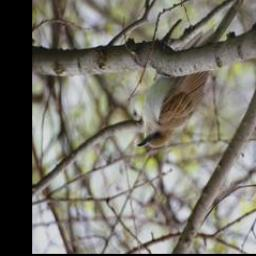Cuckoo: (136, 0, 250, 148)
